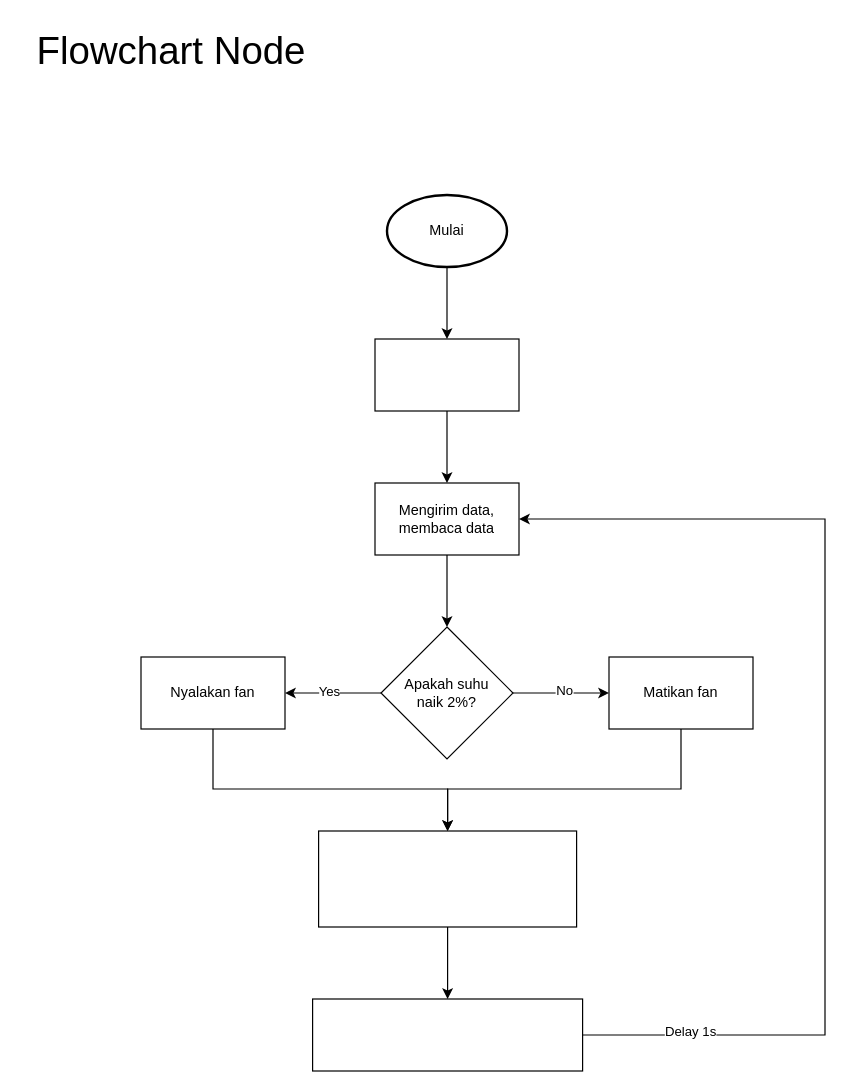
Some shapes in this 856 by 1092 pixel diagram are drawn without their labels. Each missing label, with the centre of its shape:
Buat payload JSON ( voltage, current, power, temperature, cooler_status): point (447, 878)
Inisialisasi MQTT: point (446, 374)
Publish ke MQTT Topic: DATA/LOCAL/SENSOR/PANEL_1: point (447, 1034)
